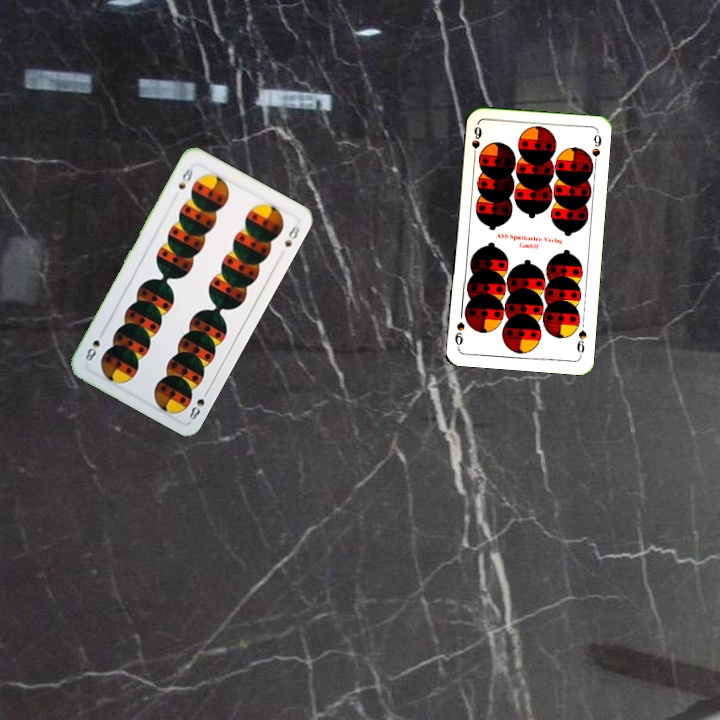S8: (185, 385, 212, 422), (174, 161, 196, 192)
S9: (467, 122, 484, 162), (572, 326, 589, 359)
